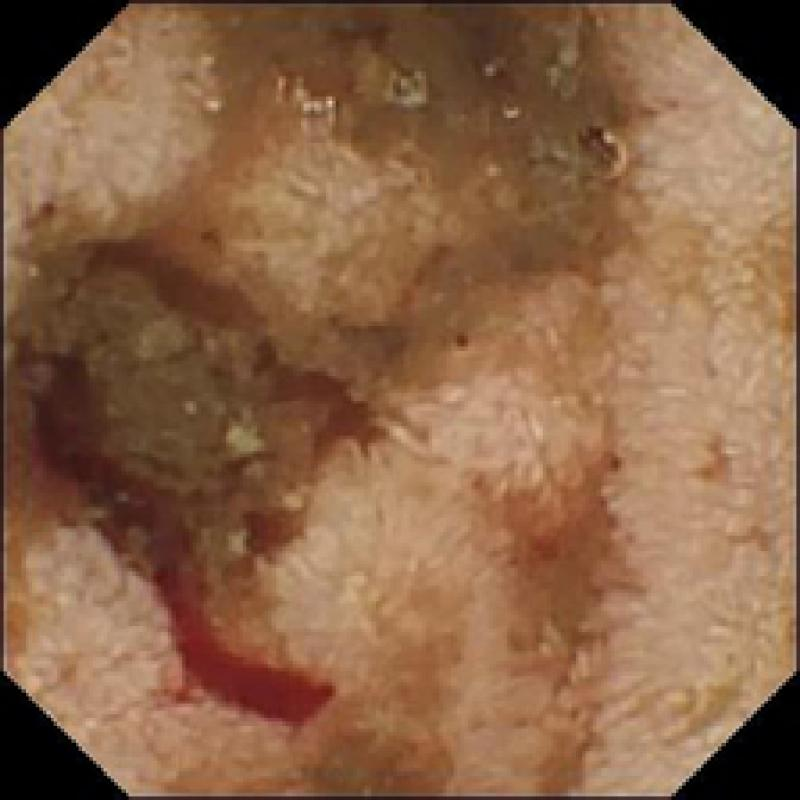bleeding: (32, 362, 332, 720)
